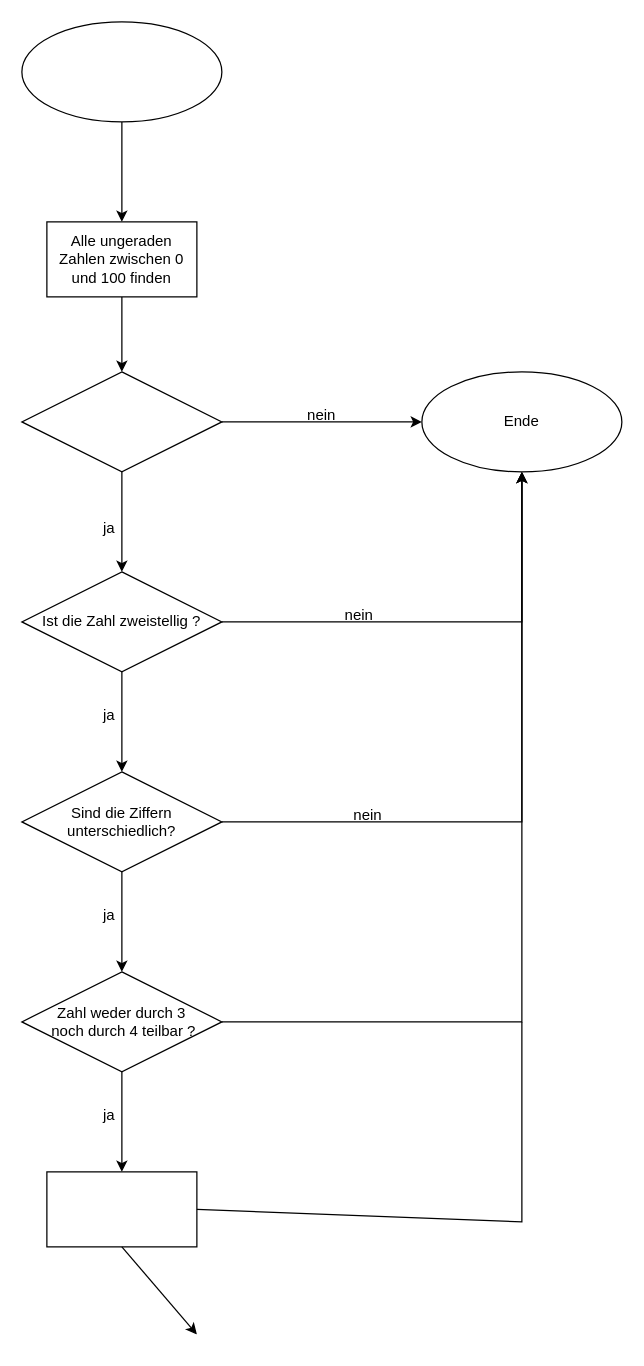
Image size: 644x1366. Some labels were removed from this diagram. The box of each missing label's shape, as (x1, y1, x2, y2) in pixels:
Start: (21, 21, 222, 122)
Zahl gefunden: (46, 1171, 197, 1247)
Zahl zwischen 0 und 100 ?: (21, 371, 222, 472)
